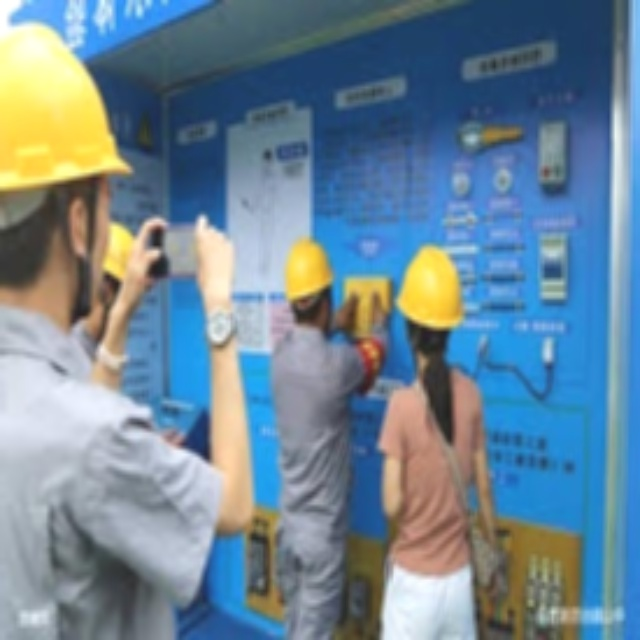Con_Casco: (399, 243, 463, 354)
